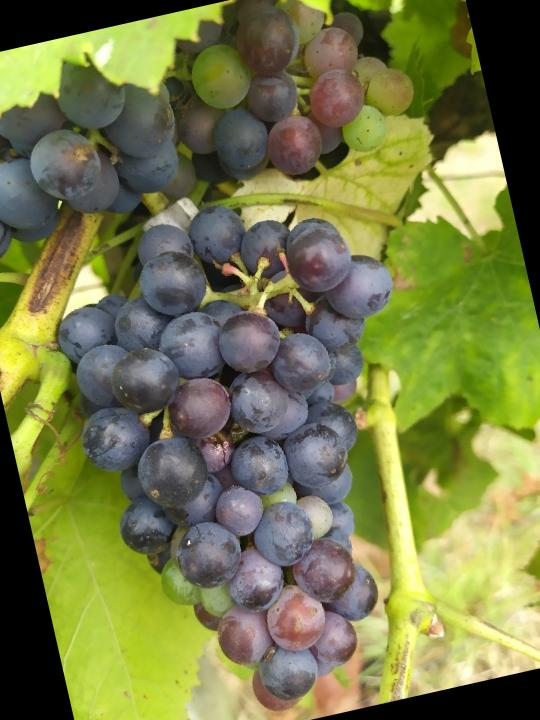grape: (39, 174, 483, 720)
